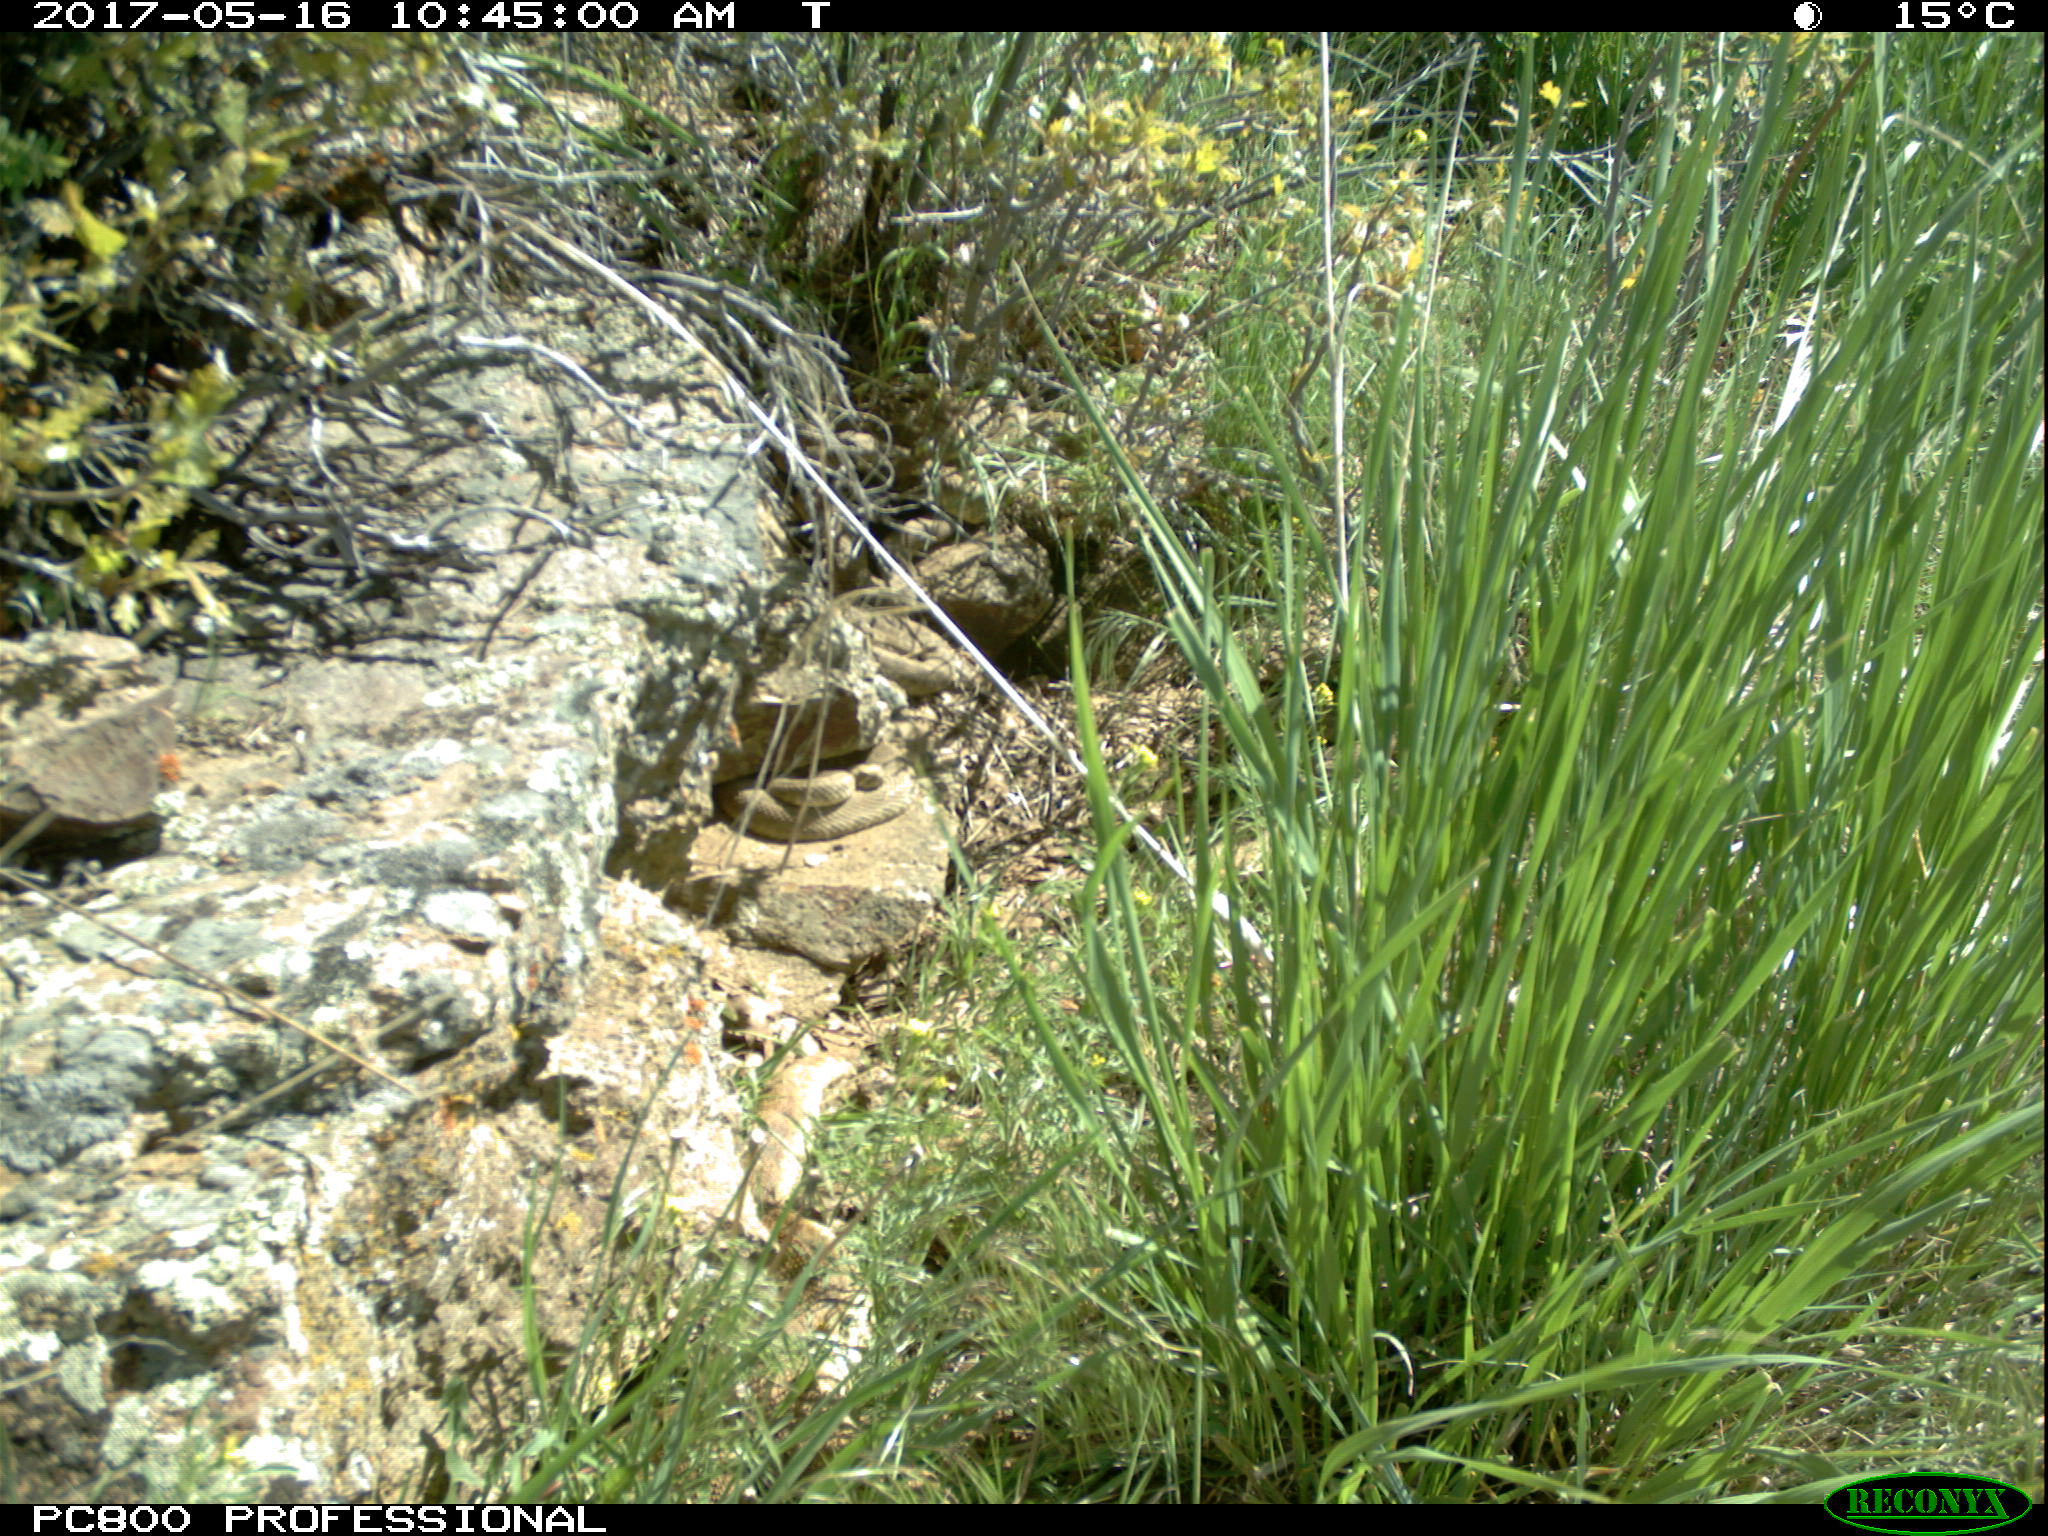snake: (751, 1054, 877, 1399), (914, 373, 1072, 520), (721, 758, 922, 845), (866, 624, 956, 694)
